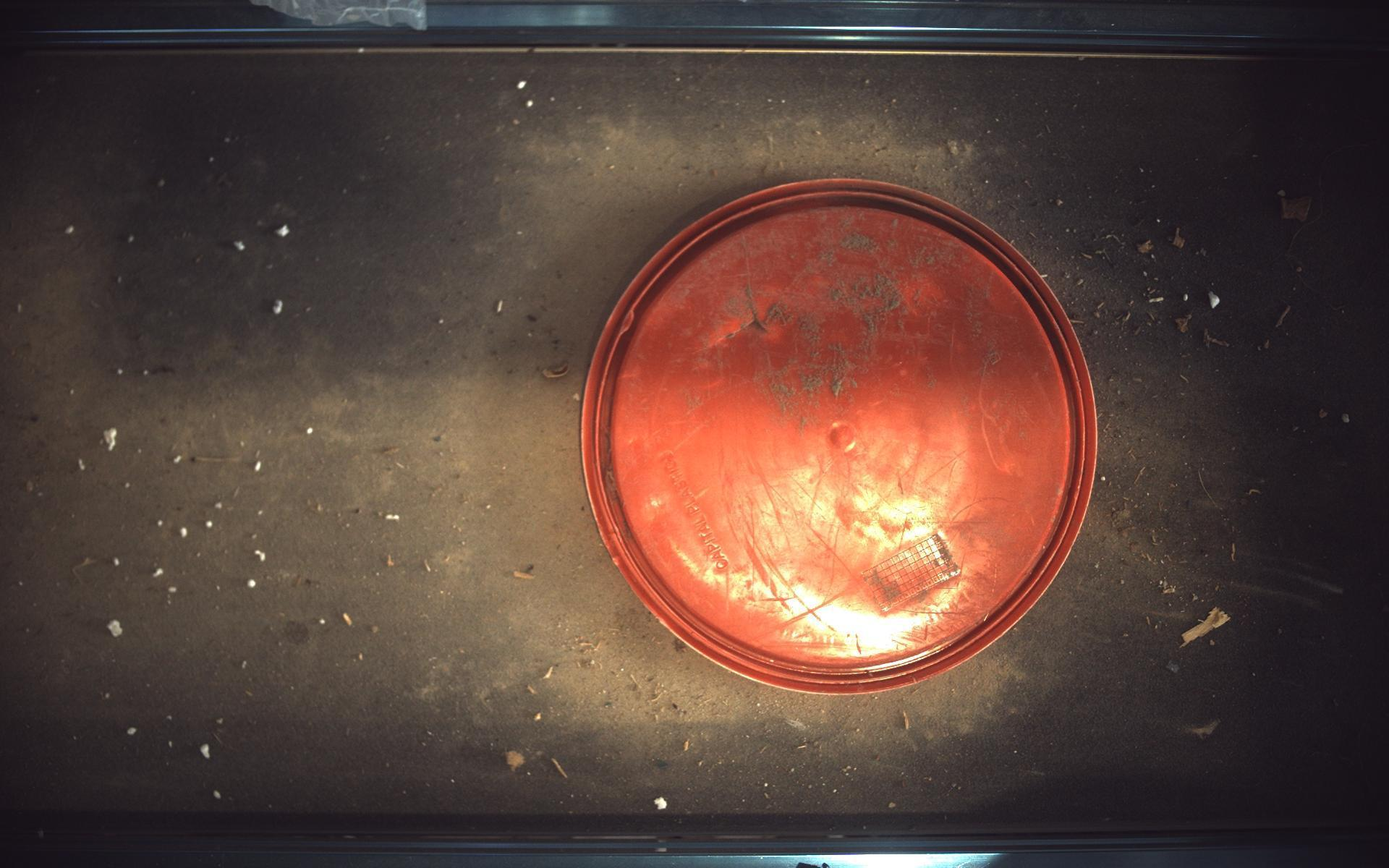plastic: (582, 178, 1100, 694)
